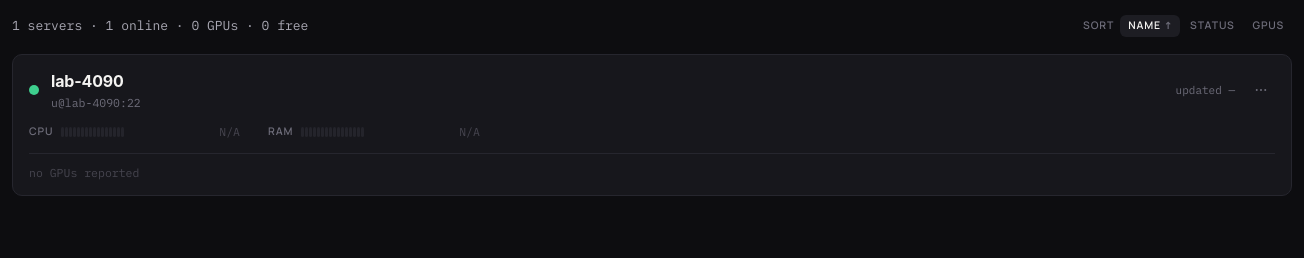
Test case: fleet machine panel: row menu › test connection shows the classified failure status
Click the button named "Server actions: lab-4090" at [1261, 90], box [1247,76,1275,104]
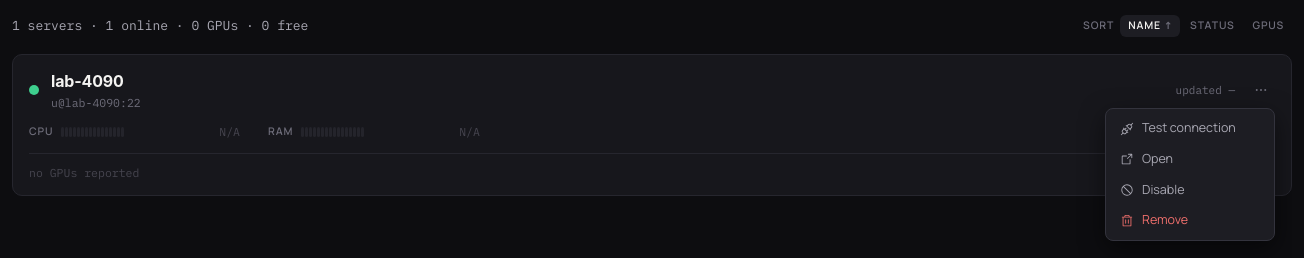
Click the menu item "Test connection" at [1190, 128], box [1110,113,1270,144]
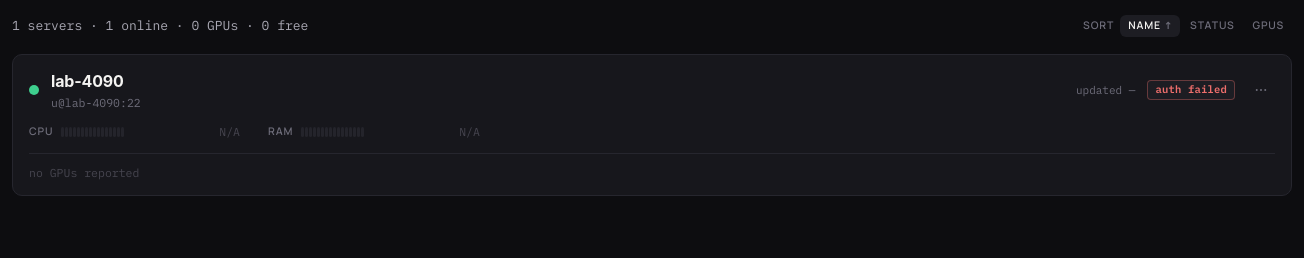
Expected: the text "auth failed" is shown, [1147,80,1235,100]
